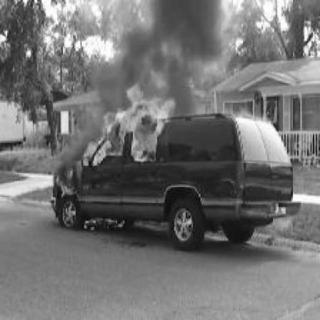Fire: (78, 64, 171, 166), (81, 214, 127, 231), (51, 167, 77, 197)
